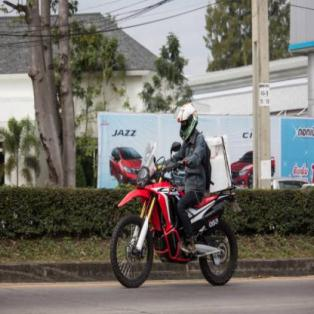Motocicleta: (111, 145, 243, 297)
